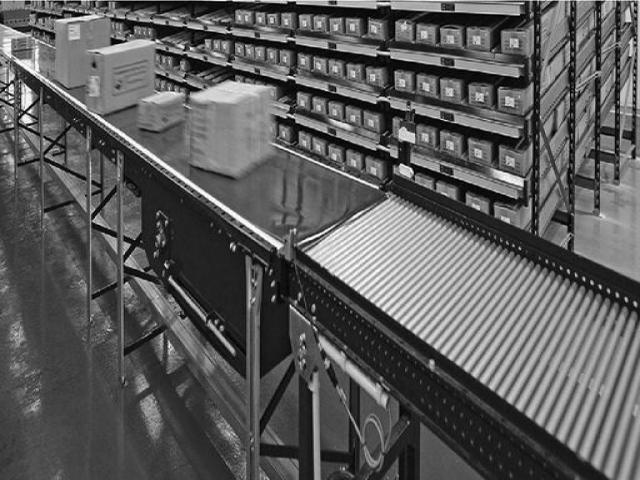conveyor: (11, 35, 640, 460)
